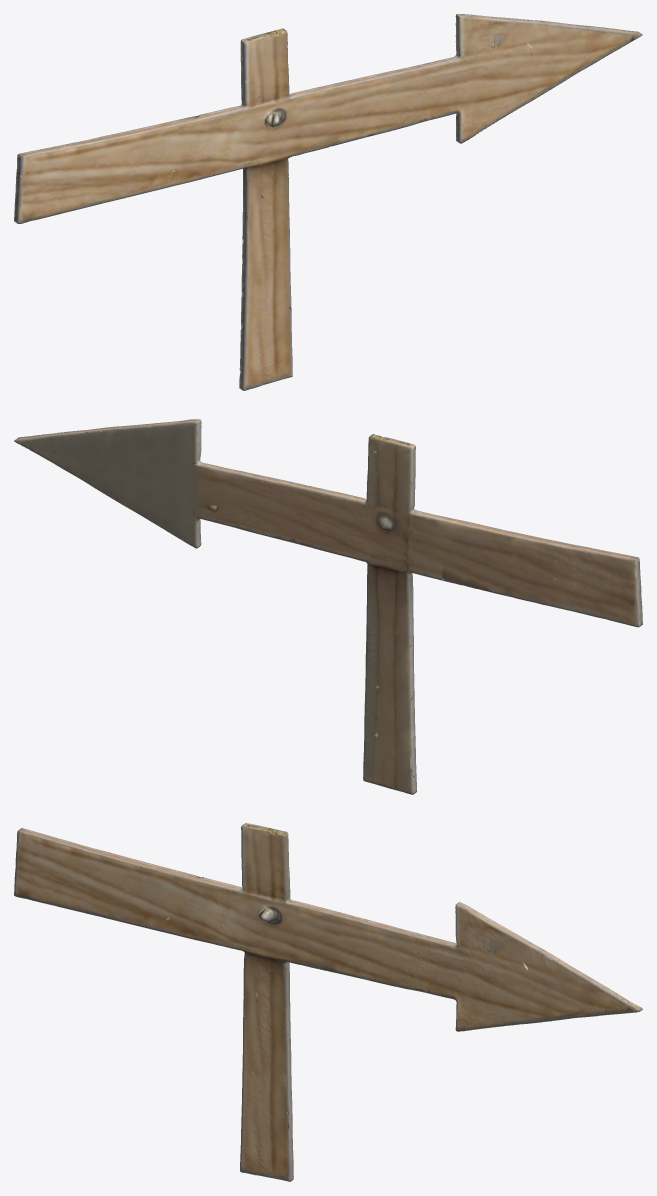
File: wooden_arrow.glb
3 renders of one model, top to bottom at view 1: azimuth 30°, elevation 25°; view 2: azimuth 150°, elevation 25°; view 3: azimuth 330°, elevation 25°, orthographic.
Size of the model in its own units: 2 by 1.07 by 0.068.
Materials: 1 (1 with a texture image).
